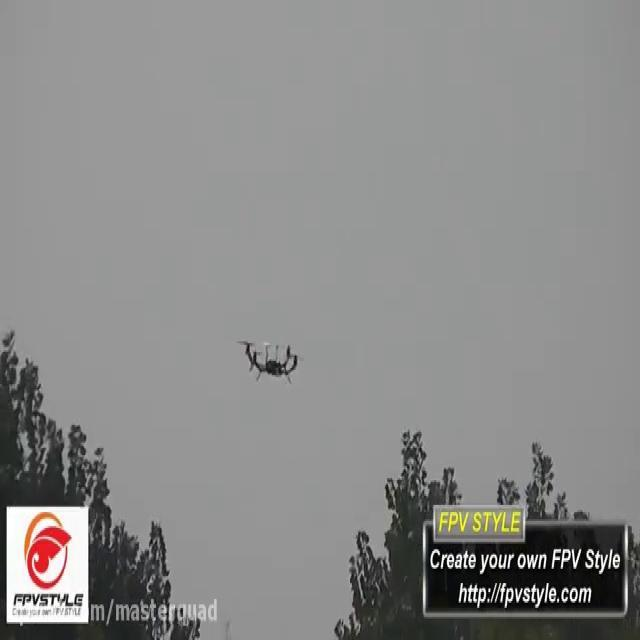drones: (233, 322, 304, 398)
